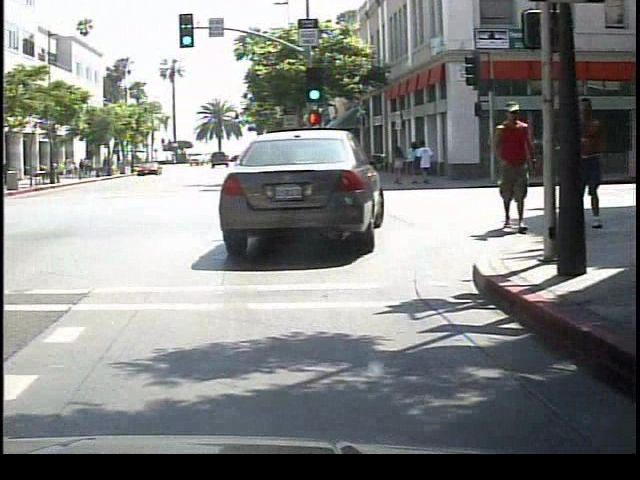person: (485, 96, 539, 238), (560, 96, 608, 235)
